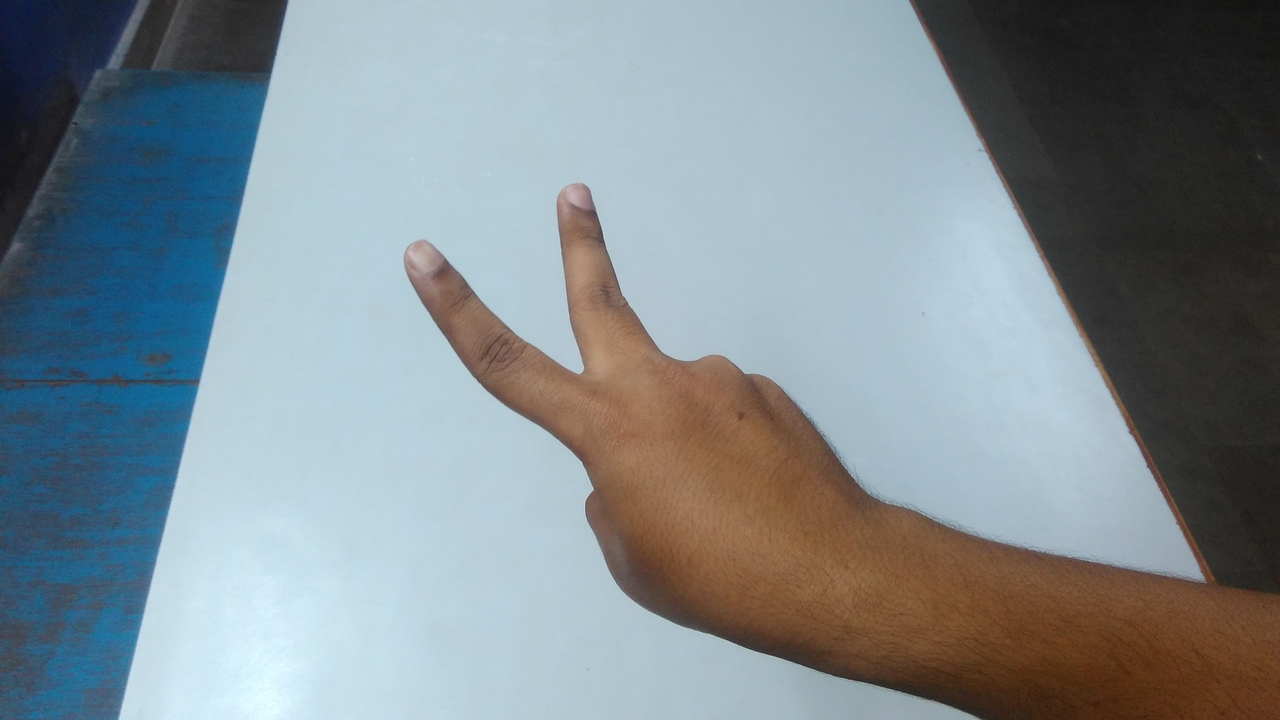fingertip: (388, 232, 456, 288), (546, 172, 606, 220)
